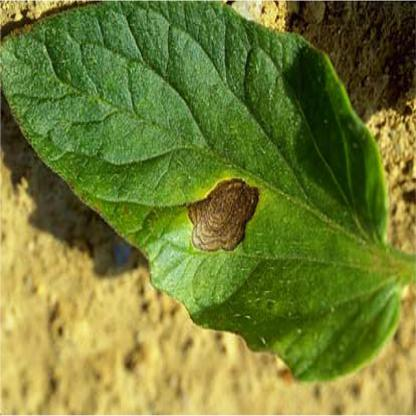tomato early blight leaf: (3, 8, 402, 389)
